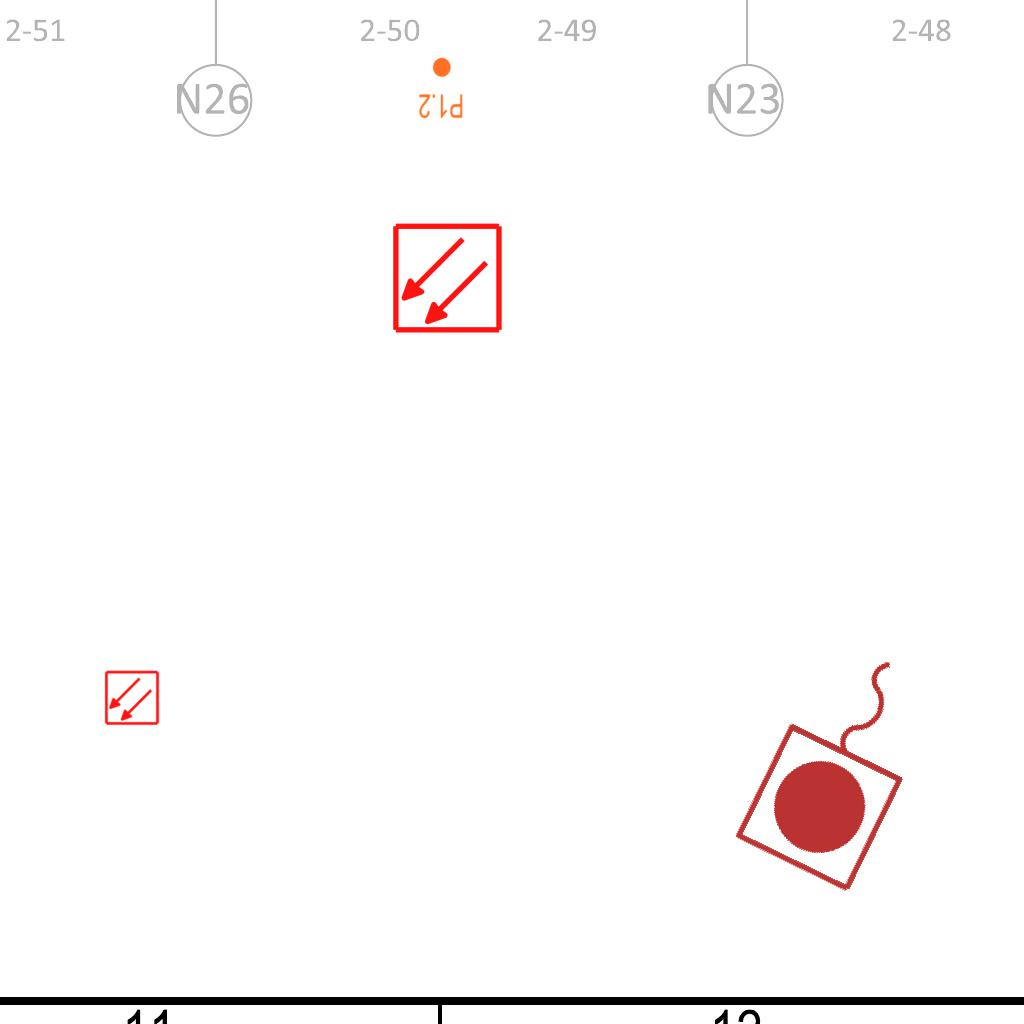Downlight_LED_Einbauleuchten_Flur: (418, 56, 464, 120)
RMO_Rauchmelder_optischer: (391, 222, 504, 335), (104, 670, 160, 726)
Zugtaster: (724, 621, 962, 905)
